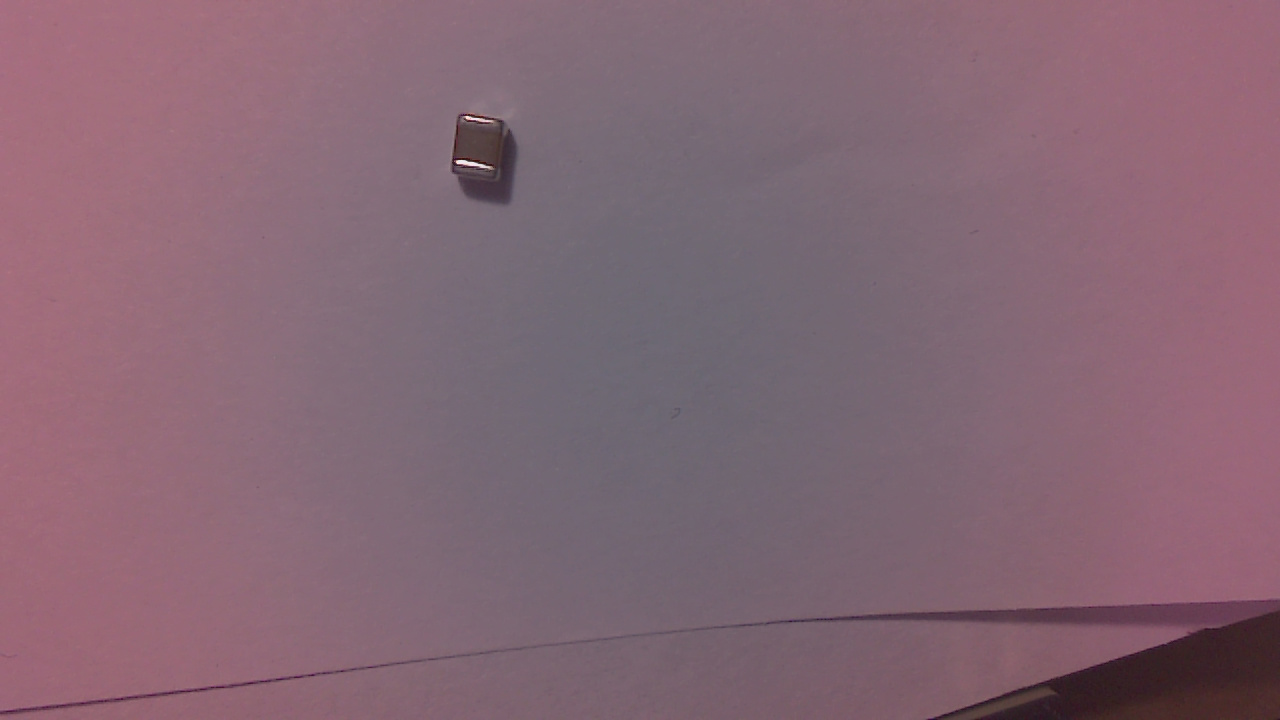Condensator: (457, 116, 520, 193)
